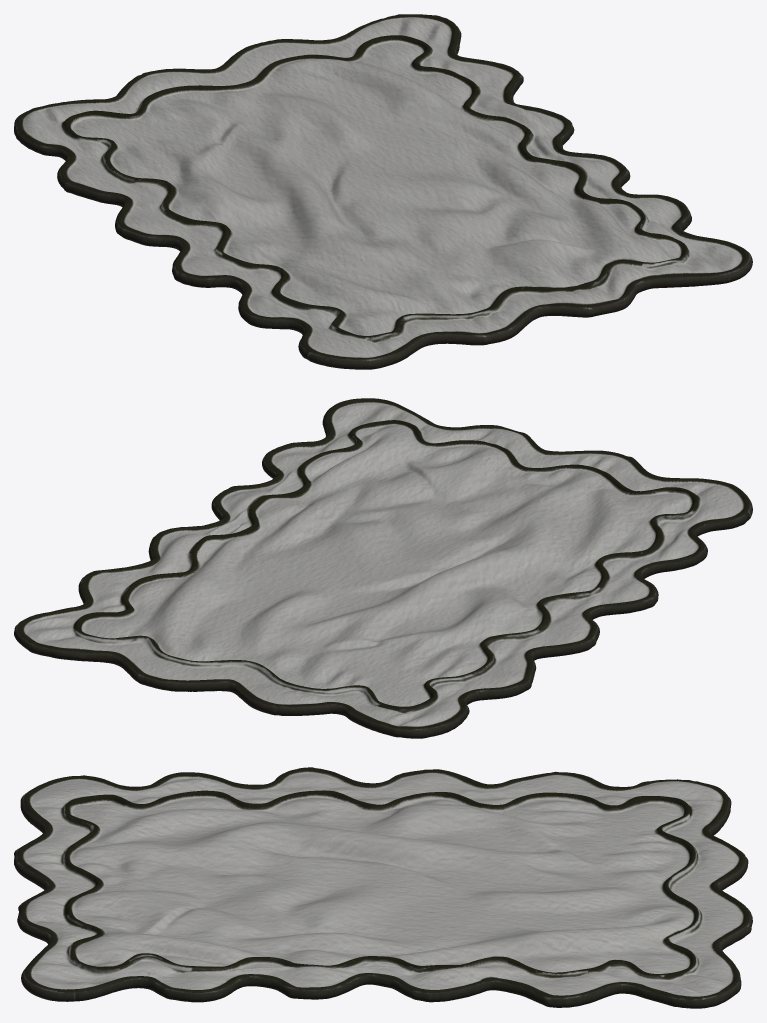
File: design1.glb
3 views of the same model, one above another, from view 1: azimuth 30°, elevation 25°; view 2: azimuth 150°, elevation 25°; view 3: azimuth 270°, elevation 25° (orthographic). The views are drawn at different scales.
Parts seen in each view (by area): view 1: Mesh_0; view 2: Mesh_0; view 3: Mesh_0.
Boxes of the visible parts, <box> form: Mesh_0: <box>14,14,752,369</box>; Mesh_0: <box>14,398,752,738</box>; Mesh_0: <box>14,767,752,1008</box>.
Size of the model in its own units: 1.42 by 0.0789 by 1.9.
Materials: 1 (1 with a texture image).
